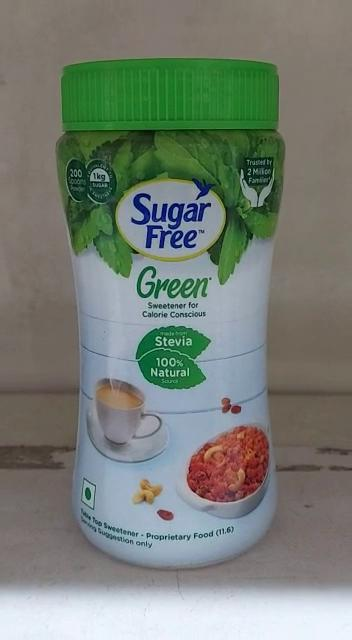SUGAR FREE_GRN_ POWDER_CONC_100G: (52, 56, 289, 570)
